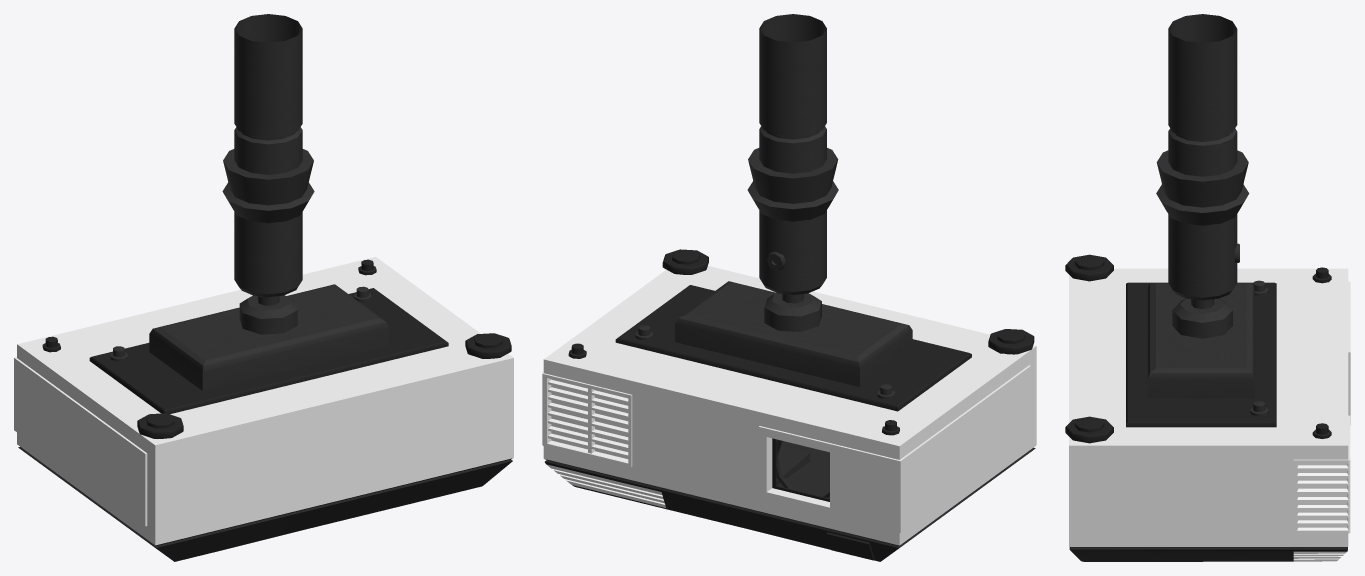
The model's file is projector.fbx.
3 renders of one model, left to right at view 1: azimuth 30°, elevation 25°; view 2: azimuth 150°, elevation 25°; view 3: azimuth 270°, elevation 25°, orthographic.
Visible parts, largest first — view 1: projector_lo; view 2: projector_lo; view 3: projector_lo.
Part boxes in pixels (x1,y1,x2,y2): projector_lo: (14, 14, 513, 561); projector_lo: (542, 14, 1036, 561); projector_lo: (1065, 14, 1350, 561).
Bounding box in the file's own units: 1.09 × 1.27 × 0.721.
